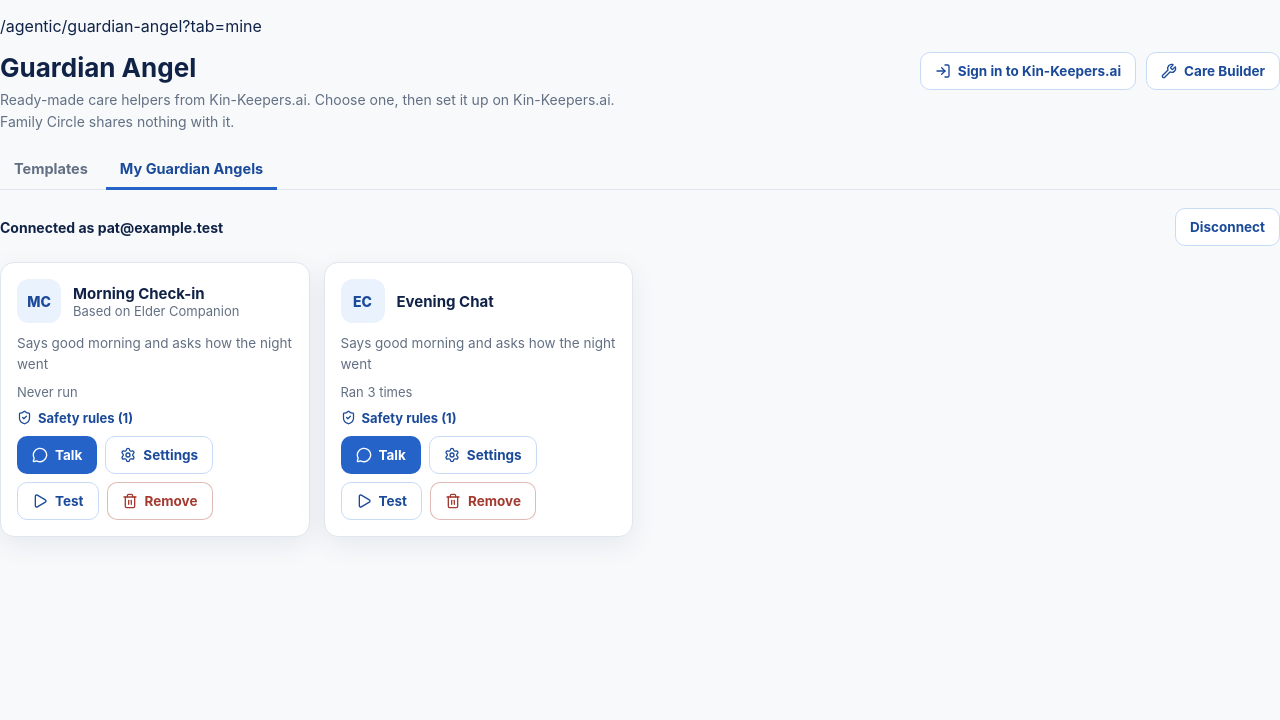
Test case: My Guardian Angels › asks before removing, then reloads the list
Click the button "Remove" below "Never run": (160, 501) x1=106 y1=482 x2=212 y2=520
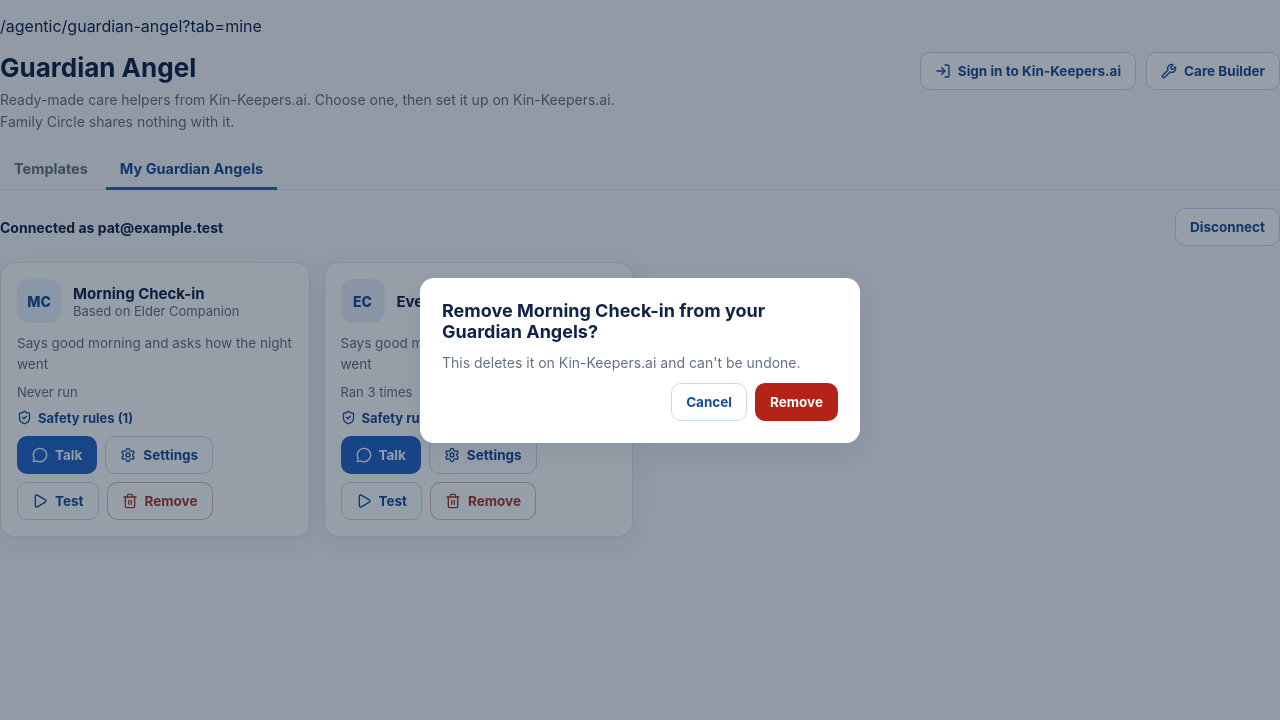
Expected: the text "This deletes it on Kin-Keepers.ai and can't be undone." is shown, x1=442 y1=354 x2=838 y2=370
Click the button "Remove": (796, 402) x1=755 y1=382 x2=838 y2=420
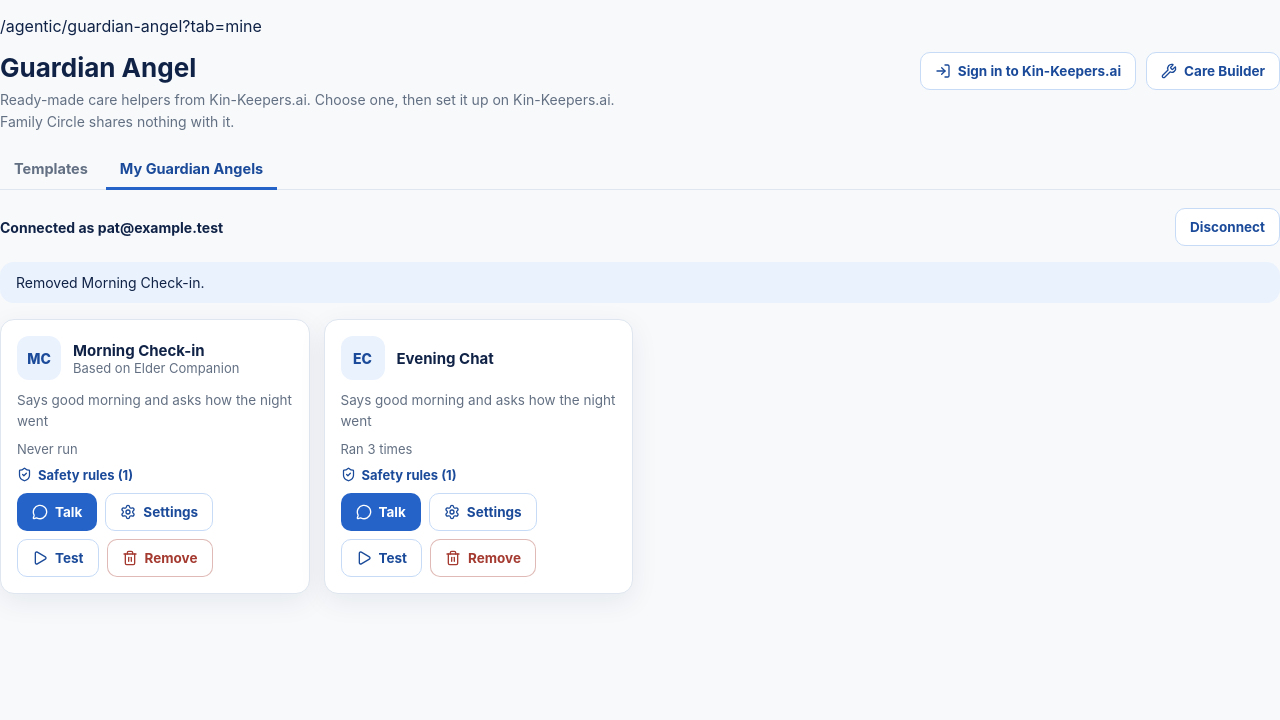
Expected: the text "Removed Morning Check-in." is shown, x1=0 y1=262 x2=1279 y2=303
Expected: the dialog is gone
